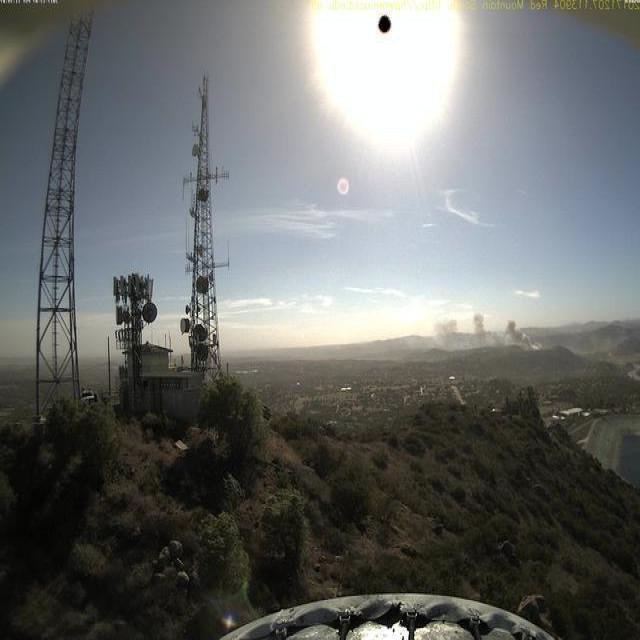Smoke: (430, 306, 550, 354)
